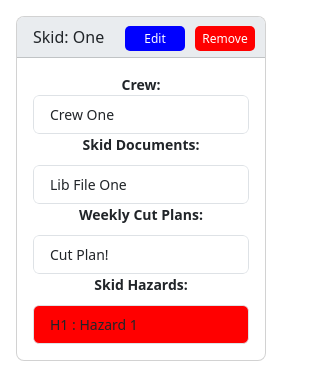
Scenario: SkidMarkerPopover › displays crew information and toggles the crew view
# Click on crew item
Click the list item with test id "crew_list_crew_id_1" at (141, 114), box top-left (33, 95), bottom-right (249, 134)
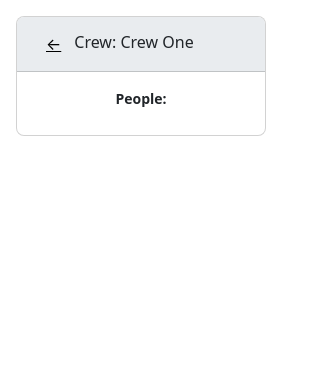
Now the text "← Crew: Crew One" is shown, box top-left (17, 17), bottom-right (265, 72)
